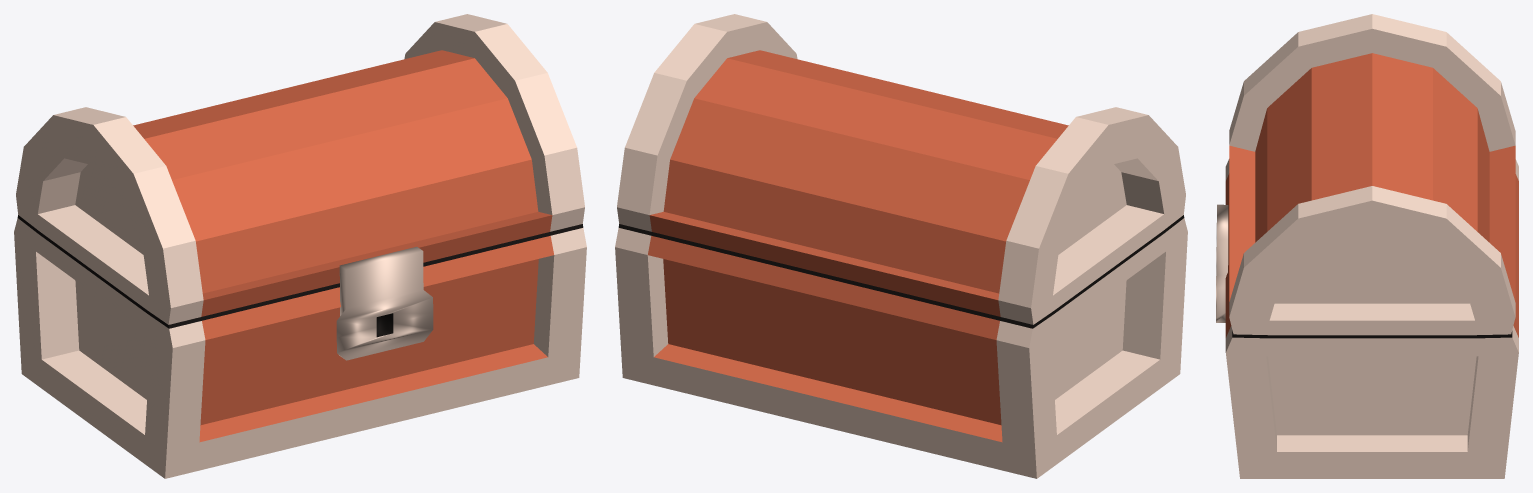
3 views of the same model, side by side, from view 1: azimuth 30°, elevation 25°; view 2: azimuth 150°, elevation 25°; view 3: azimuth 270°, elevation 25° (orthographic). The views are drawn at different scales.
Parts seen in each view (by area): view 1: Cylinder, Cylinder.002, Cylinder.001; view 2: Cylinder, Cylinder.002; view 3: Cylinder, Cylinder.002, Cylinder.001.
Part boxes in pixels (box(x1,y1,x2,y2)): Cylinder: box(38, 14, 586, 470); Cylinder.002: box(14, 107, 205, 478); Cylinder.001: box(336, 246, 433, 360); Cylinder: box(615, 14, 1165, 470); Cylinder.002: box(996, 107, 1187, 478); Cylinder: box(1225, 53, 1518, 478); Cylinder.002: box(1225, 14, 1518, 180); Cylinder.001: box(1216, 204, 1228, 322).
Size of the model in its own units: 2.98 by 2.07 by 2.04.
